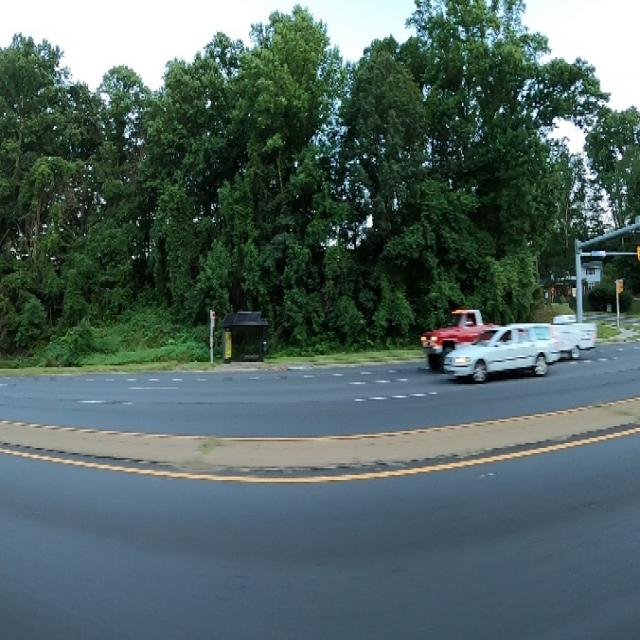car: (445, 317, 564, 386), (412, 302, 511, 367)
